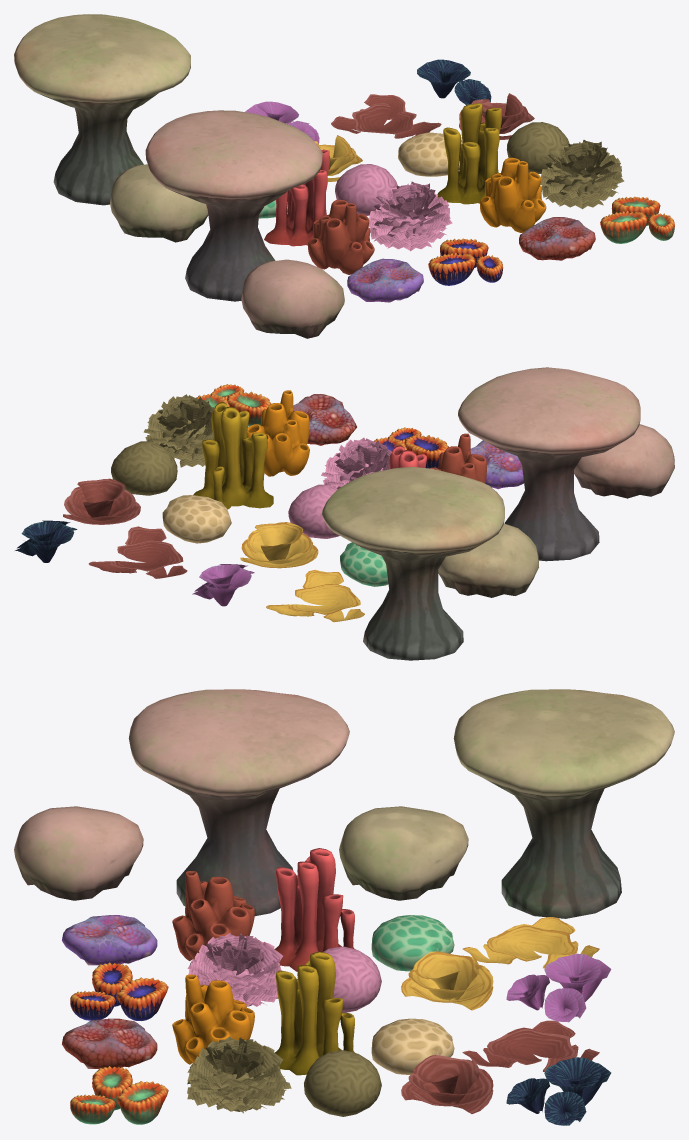
The model's file is soft-corals.glb.
3 renders of one model, top to bottom at view 1: azimuth 30°, elevation 25°; view 2: azimuth 150°, elevation 25°; view 3: azimuth 270°, elevation 25°, orthographic. The views are drawn at different scales.
Parts seen in each view (by area): view 1: Coral02_low, Coral02_low1, Coral01_low, Coral01_low1, coral11, coral14, coral23, coral19, coral10, coral25, coral17, coral20 (+10 smaller); view 2: Coral02_low1, Coral02_low, coral11, Coral01_low, Coral01_low1, coral14, coral10, coral15, coral16, coral28, coral17, coral24 (+12 smaller); view 3: Coral02_low1, Coral02_low, Coral01_low, Coral01_low1, coral11, coral25, coral14, coral23, coral19, coral10, coral18, coral21 (+12 smaller).
Part boxes in pixels (x1=…): Coral02_low: x1=145, y1=110, x2=322, y2=301; Coral02_low1: x1=14, y1=14, x2=190, y2=205; Coral01_low: x1=241, y1=259, x2=344, y2=338; Coral01_low1: x1=110, y1=164, x2=208, y2=242; coral11: x1=437, y1=103, x2=501, y2=204; coral14: x1=540, y1=140, x2=624, y2=209; coral23: x1=368, y1=181, x2=452, y2=251; coral19: x1=308, y1=199, x2=374, y2=274; coral10: x1=480, y1=157, x2=546, y2=232; coral25: x1=264, y1=149, x2=329, y2=246; coral17: x1=331, y1=94, x2=441, y2=138; coral20: x1=347, y1=258, x2=423, y2=302; Coral02_low1: x1=322, y1=466, x2=504, y2=660; Coral02_low: x1=458, y1=367, x2=640, y2=561; coral11: x1=193, y1=402, x2=273, y2=509; Coral01_low: x1=574, y1=424, x2=674, y2=498; Coral01_low1: x1=438, y1=523, x2=538, y2=597; coral14: x1=143, y1=394, x2=214, y2=467; coral10: x1=247, y1=390, x2=309, y2=476; coral15: x1=111, y1=441, x2=177, y2=495; coral16: x1=63, y1=478, x2=140, y2=524; coral28: x1=240, y1=522, x2=318, y2=568; coral17: x1=88, y1=526, x2=187, y2=578; coral24: x1=266, y1=569, x2=364, y2=622; Coral02_low1: x1=453, y1=689, x2=674, y2=918; Coral02_low: x1=128, y1=689, x2=349, y2=916; Coral01_low: x1=14, y1=806, x2=143, y2=900; Coral01_low1: x1=339, y1=806, x2=468, y2=900; coral11: x1=274, y1=951, x2=354, y2=1075; coral25: x1=274, y1=848, x2=355, y2=971; coral14: x1=187, y1=1036, x2=291, y2=1113; coral23: x1=187, y1=933, x2=282, y2=1006; coral19: x1=172, y1=871, x2=254, y2=960; coral10: x1=172, y1=974, x2=254, y2=1064; coral18: x1=506, y1=1057, x2=611, y2=1125; coral21: x1=506, y1=953, x2=611, y2=1022.
Bounding box in the file's own units: 0.259 × 0.0827 × 0.259.
Materials: 4 (4 with a texture image).
